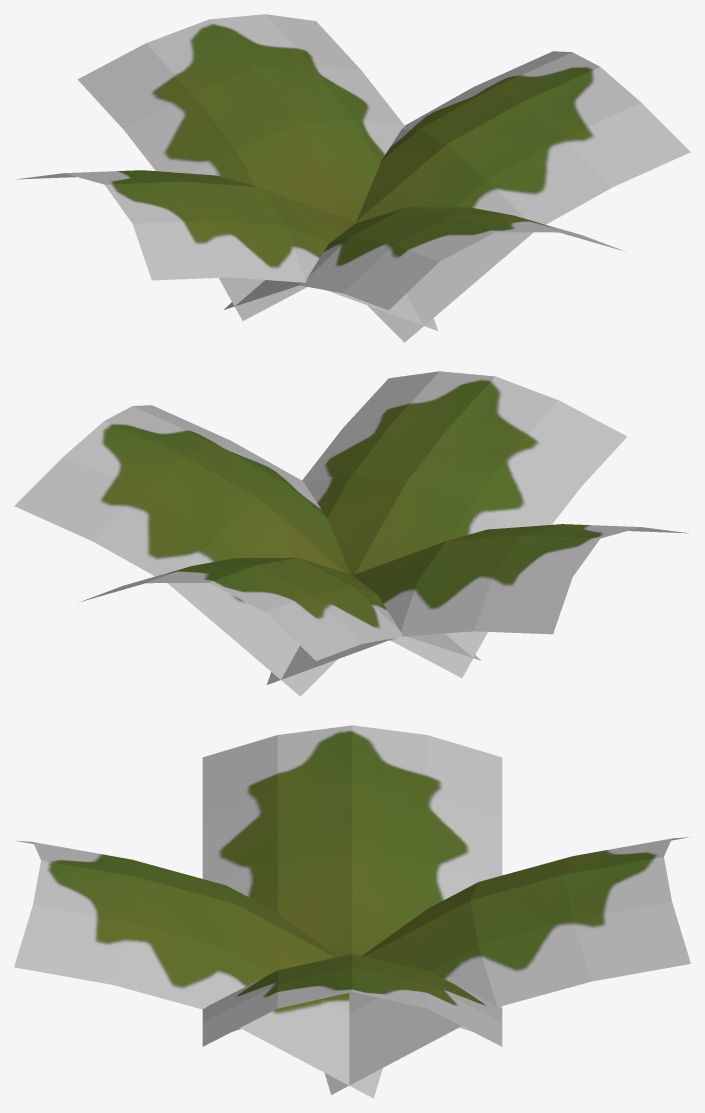
Rendered from Flower9.fbx.
3 views of the same model, one above another, from view 1: azimuth 30°, elevation 25°; view 2: azimuth 150°, elevation 25°; view 3: azimuth 270°, elevation 25° (orthographic). The views are drawn at different scales.
Visible parts, largest first — view 1: Bush.009; view 2: Bush.009; view 3: Bush.009.
Boxes of the visible parts, left/top/right/bottom form: Bush.009: left=14, top=14, right=690, bottom=342; Bush.009: left=14, top=371, right=688, bottom=696; Bush.009: left=14, top=725, right=690, bottom=1098.
Size of the model in its own units: 1157 by 337 by 1157.
